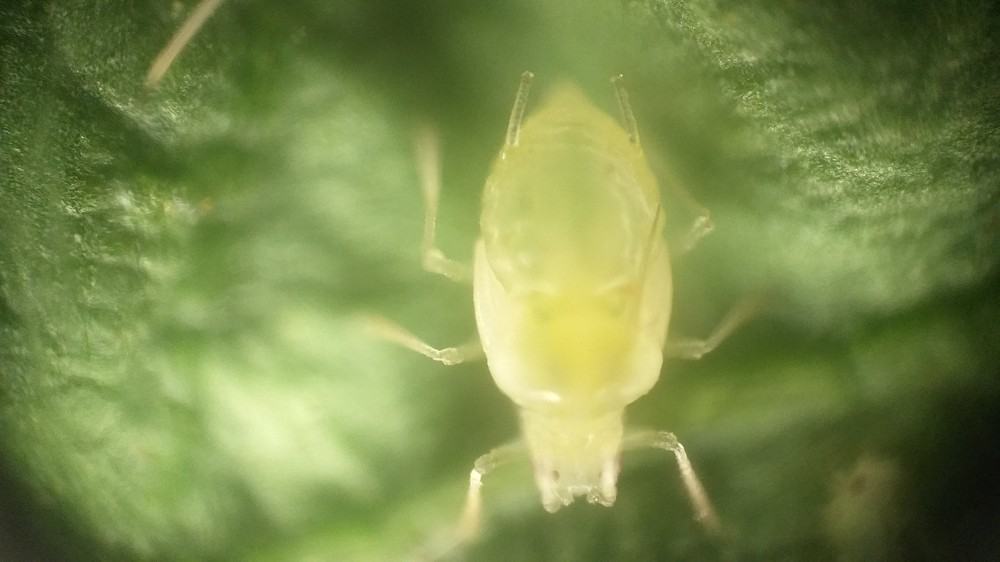Pulgon: (379, 57, 787, 553)
